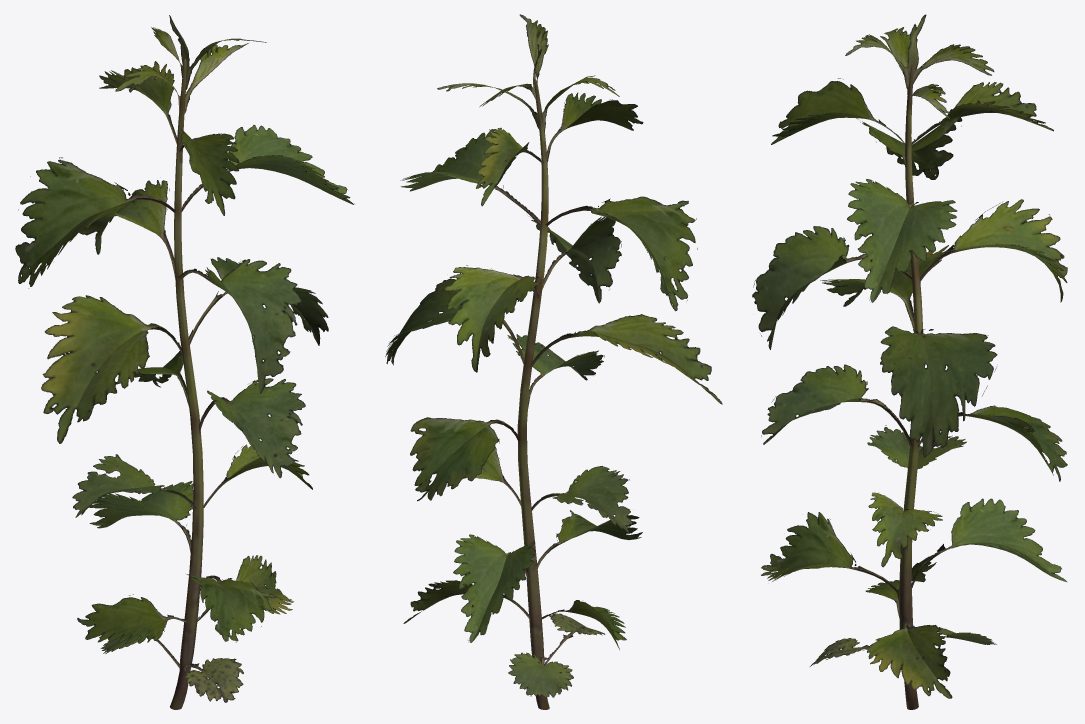
File: nettle.glb
3 renders of one model, left to right at view 1: azimuth 30°, elevation 25°; view 2: azimuth 150°, elevation 25°; view 3: azimuth 270°, elevation 25°, orthographic. The views are drawn at different scales.
Visible parts, largest first — view 1: nettle_plant_tall_a_LOD0; view 2: nettle_plant_tall_a_LOD0; view 3: nettle_plant_tall_a_LOD0.
Boxes of the visible parts, <box> form: nettle_plant_tall_a_LOD0: <box>15,15,354,709</box>; nettle_plant_tall_a_LOD0: <box>385,14,722,709</box>; nettle_plant_tall_a_LOD0: <box>752,14,1067,709</box>.
Size of the model in its own units: 0.1036 by 0.2168 by 0.0901.
Materials: 1 (1 with a texture image).
